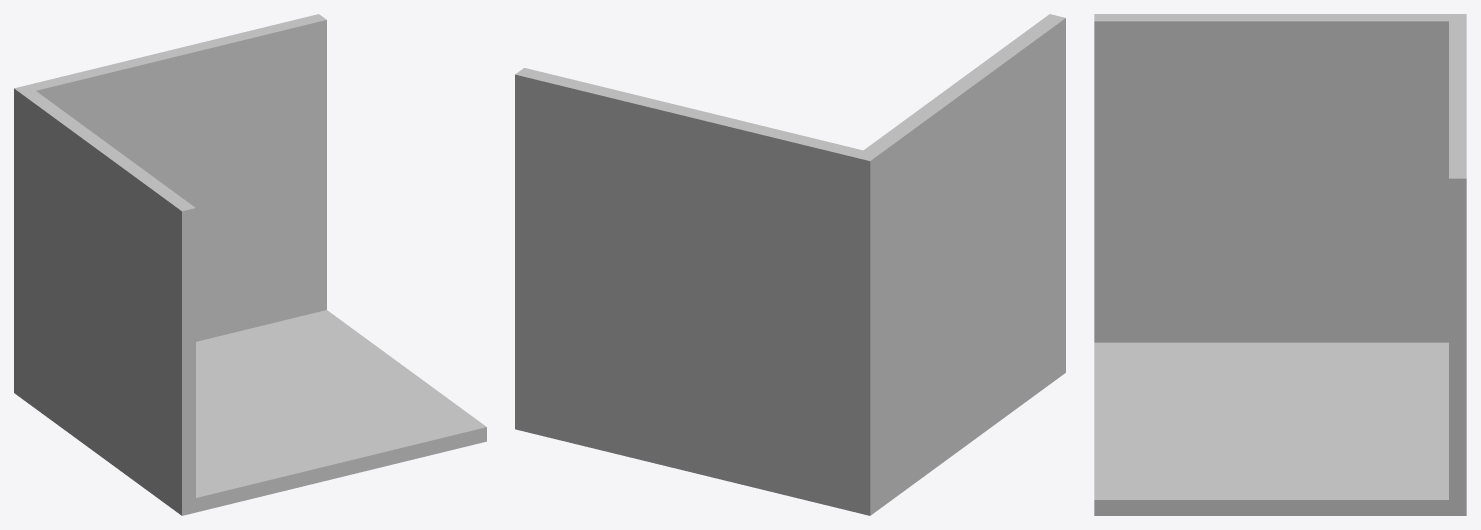
Rendered from room_white.glb.
The picture shows the model from 3 angles, left to right: view 1: azimuth 30°, elevation 25°; view 2: azimuth 150°, elevation 25°; view 3: azimuth 270°, elevation 25°; orthographic projection. The views are drawn at different scales.
Visible parts, largest first — view 1: wall; view 2: wall; view 3: wall.
Boxes of the visible parts, x1=… form: wall: x1=14, y1=14, x2=486, y2=515; wall: x1=515, y1=14, x2=1065, y2=515; wall: x1=1094, y1=14, x2=1466, y2=515.
Size of the model in its own units: 0.44 by 0.42 by 0.42.
1 material, 1 textured.
